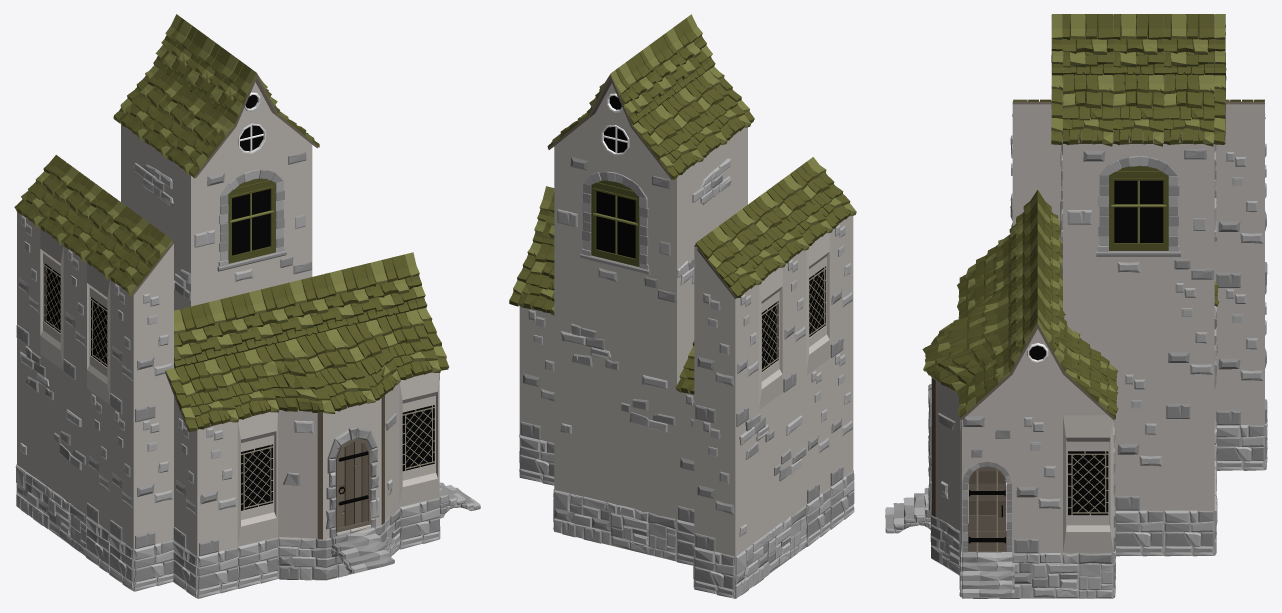
Rendered from HOUSE_14.fbx.
The picture shows the model from 3 angles, left to right: view 1: azimuth 30°, elevation 25°; view 2: azimuth 150°, elevation 25°; view 3: azimuth 270°, elevation 25°; orthographic projection. The views are drawn at different scales.
Parts seen in each view (by area): view 1: WINDOW_05_10, BALKON_04_2, ROOF_base_round_2, WALL_01_3, WALL_03_3, WALL_06_6, WINDOW_04_4, WINDOW_04_3, WALL_06_5, WALL_06_13, FOUNDATION_01_2, WALL_06_15 (+43 smaller); view 2: WALL_01_2, WINDOW_05_11, WALL_01_3, WALL_03_3, WALL_06_22, FOUNDATION_03_3, WALL_06_20, WALL_06_7, WALL_06_11, WALL_06_17, WALL_06_16, FOUNDATION_03_2 (+40 smaller); view 3: WINDOW_05_12, WALL_06_3, WINDOW_04_2, DOOR_01_3, WALL_06_9, WALL_06_26, WALL_06_4, WALL_06_24, ROOF_base_round_2, FOUNDATION_03_4, BALKON_04_2, ROOF_BASE_17 (+49 smaller).
Part boxes in pixels (box(x1,y1,x2,y2)): WINDOW_05_10: box(191, 145, 312, 300); BALKON_04_2: box(278, 383, 399, 539); ROOF_base_round_2: box(255, 319, 400, 413); WALL_01_3: box(17, 338, 86, 514); WALL_03_3: box(121, 125, 193, 300); WALL_06_6: box(133, 412, 173, 548); WINDOW_04_4: box(237, 412, 277, 546); WINDOW_04_3: box(399, 372, 439, 506); WALL_06_5: box(197, 421, 237, 556); WALL_06_13: box(133, 286, 173, 422); FOUNDATION_01_2: box(278, 507, 400, 580); WALL_06_15: box(86, 388, 110, 531); WALL_01_2: box(554, 317, 677, 475); WINDOW_05_11: box(554, 146, 677, 304); WALL_01_3: box(733, 376, 806, 555); WALL_03_3: box(674, 127, 747, 304); WALL_06_22: box(694, 289, 735, 427); FOUNDATION_03_3: box(554, 489, 676, 561); WALL_06_20: box(694, 418, 735, 555); WALL_06_7: box(519, 306, 554, 442); WALL_06_11: box(829, 341, 853, 486); WALL_06_17: box(782, 250, 806, 392); WALL_06_16: box(829, 215, 853, 358); FOUNDATION_03_2: box(734, 504, 806, 598); WINDOW_05_12: box(1063, 144, 1214, 281); WALL_06_3: box(1012, 415, 1062, 553); WINDOW_04_2: box(1063, 415, 1113, 552); DOOR_01_3: box(962, 415, 1012, 552); WALL_06_9: box(1164, 281, 1214, 418); WALL_06_26: box(1214, 150, 1264, 287); WALL_06_4: box(1113, 372, 1163, 510); WALL_06_24: box(1214, 287, 1264, 425); ROOF_base_round_2: box(922, 283, 1008, 392); FOUNDATION_03_4: box(962, 552, 1113, 598); BALKON_04_2: box(928, 377, 960, 529); ROOF_BASE_17: box(1062, 73, 1113, 146).
Size of the model in its own units: 812 by 1114 by 757.
